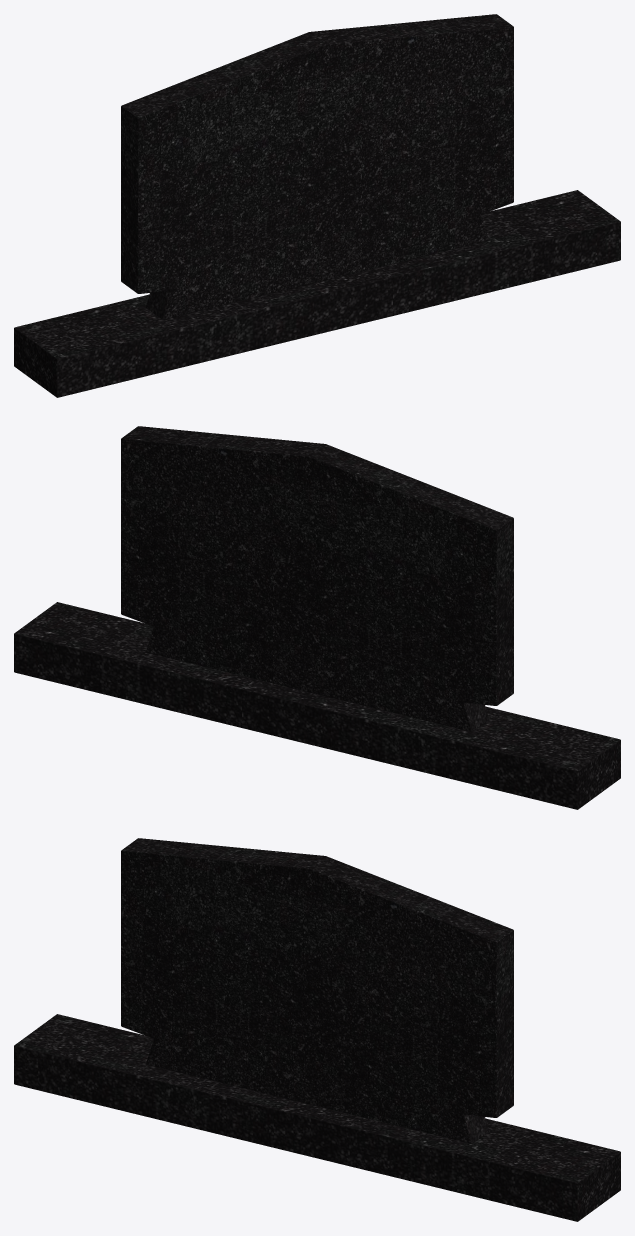
File: Number 30.gltf
3 renders of one model, top to bottom at view 1: azimuth 30°, elevation 25°; view 2: azimuth 150°, elevation 25°; view 3: azimuth 330°, elevation 25°, orthographic.
Parts seen in each view (by area): view 1: Cube.036, Cube.035; view 2: Cube.036, Cube.035; view 3: Cube.036, Cube.035.
Boxes of the visible parts, x1,y1,x2,y2 form: Cube.036: (121,14,513,319); Cube.035: (14,190,620,397); Cube.036: (121,426,513,731); Cube.035: (14,602,620,809); Cube.036: (121,838,513,1143); Cube.035: (14,1014,620,1221).
Bounding box in the file's own units: 1.5 × 0.7 × 0.2.
1 material, 1 textured.
